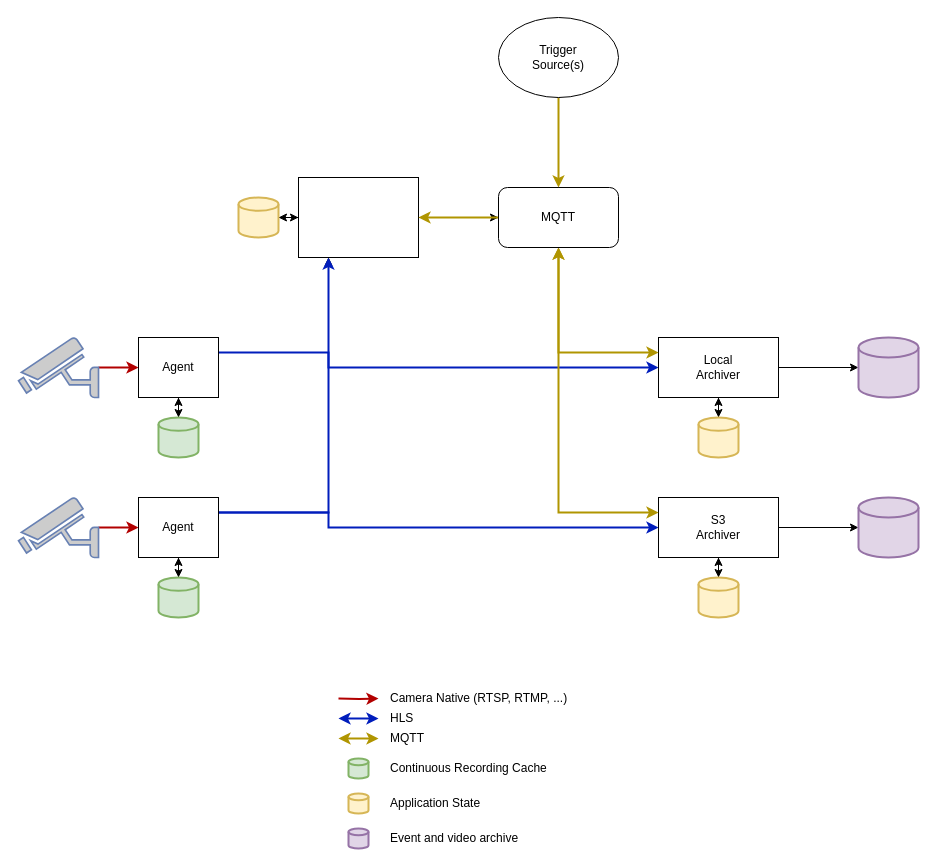
This 936x867 diagram has some shape labels left out. Here are the shapes that lost their labels. From the top down, the centre of each, then its label:
the point at 358,217: Event Processor
the point at 888,367: Filesystem
the point at 888,527: S3
